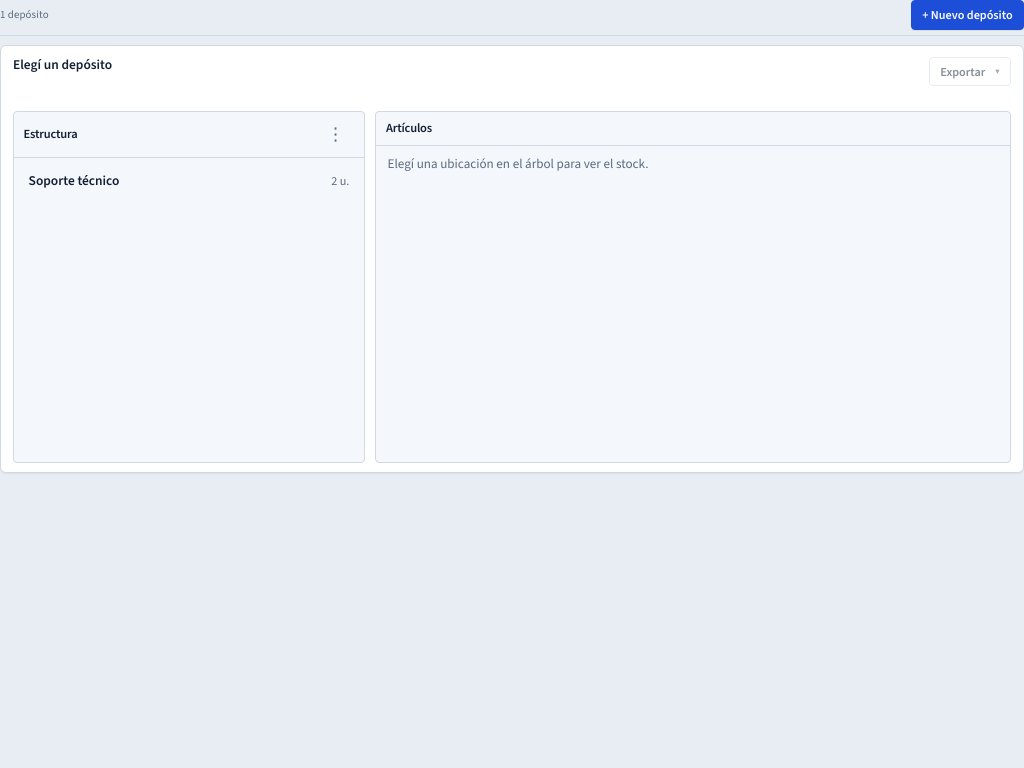
DepositosPage › expande depósito → sector → ubicación y muestra artículos a la derecha
This screenshot has width=1024, height=768.
Expected: the heading "Estructura" is shown, [24,126,78,143]
Expected: the heading "Artículos" is shown, [386,120,432,137]
Click the button "Soporte técnico 2 u." at (74, 180), box [20,164,358,198]
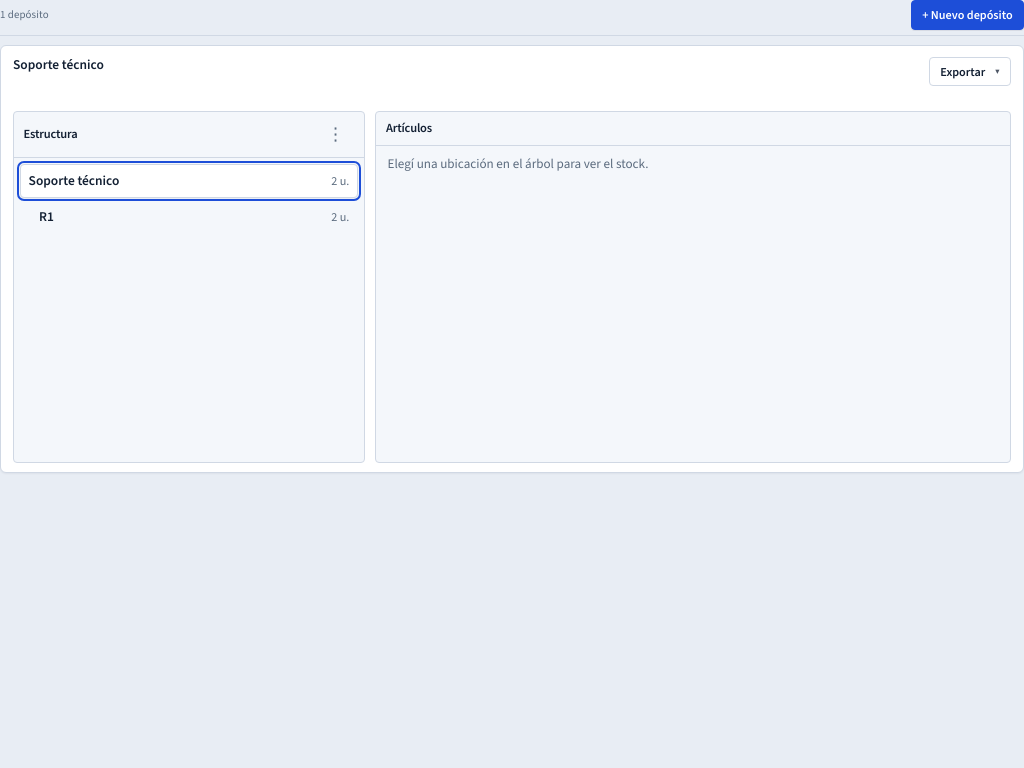
Expected: the button "e2" is not shown
Expected: the button "R1 2 u." is shown
Click the button "R1 2 u." at (46, 216), box [20,200,358,234]
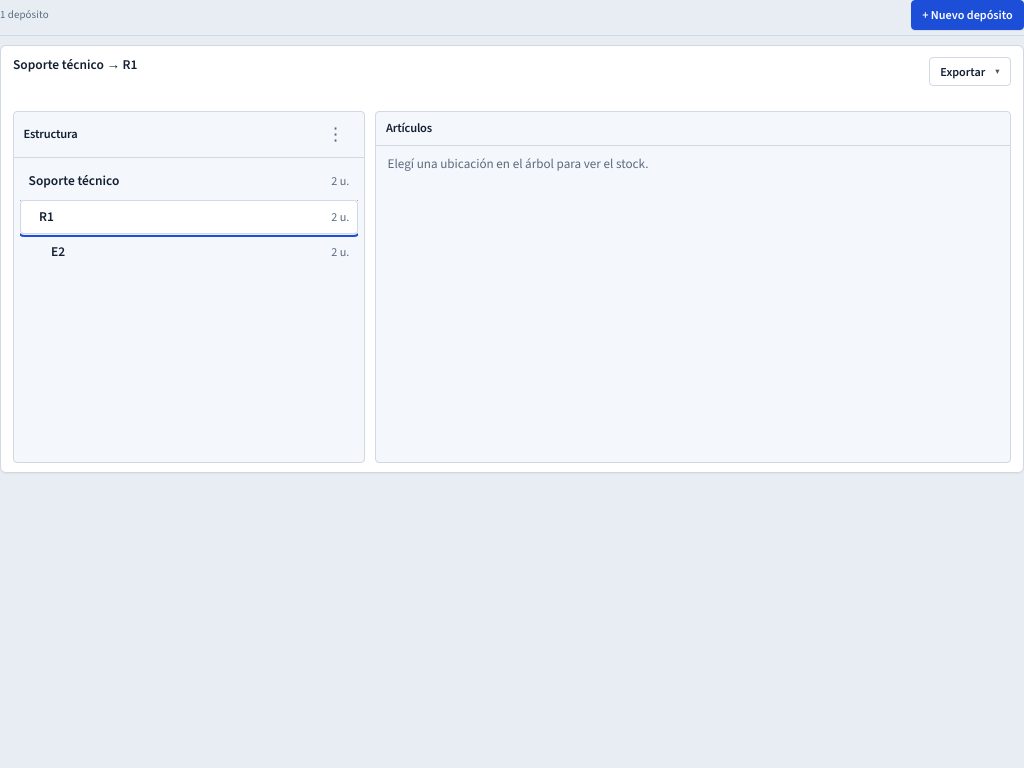
Expected: the button "Soporte técnico 2 u." is shown, [20,164,358,198]
Expected: the button "E2 2 u." is shown
Click the button "E2 2 u." at (58, 252), box [20,236,358,270]
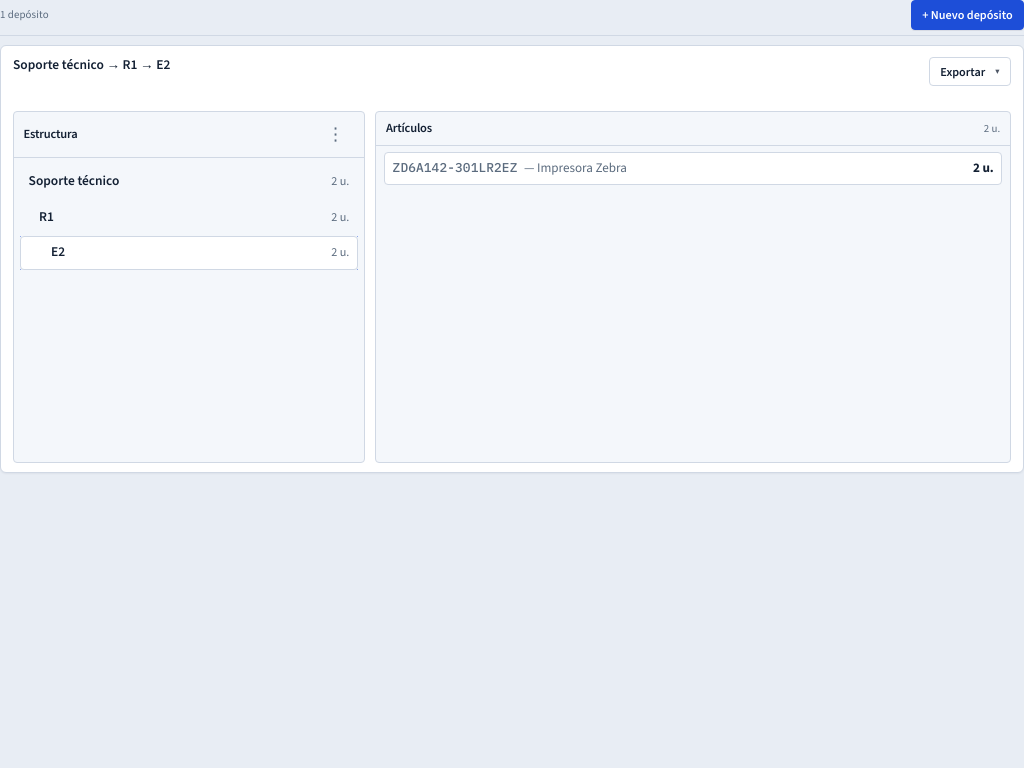
Expected: the text "ZD6A142-301LR2EZ" is shown, [393,159,518,177]
Expected: the text "Elegí una ubicación" is gone
Click the button with aria-label "ver artículo zd6a142-301lr2ez" at (455, 168), box [384,152,1002,185]
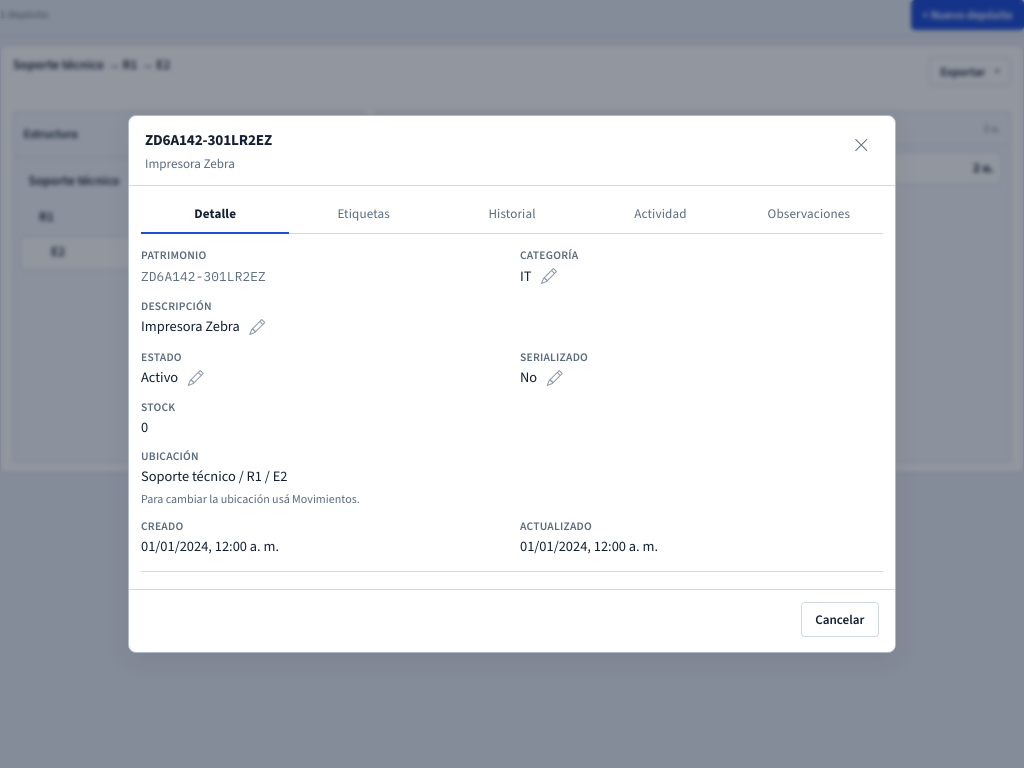
Expected: the heading "ZD6A142-301LR2EZ" is shown, [145,131,272,152]
